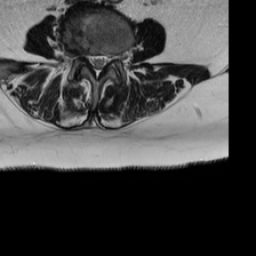CCS_normal: (93, 47, 101, 84)
LFS_stenosis: (108, 45, 116, 68)
LLS_stenosis: (101, 47, 108, 74)
RFS_severe_stenosis: (80, 44, 86, 66)
RLS_stenosis: (86, 46, 93, 72)
